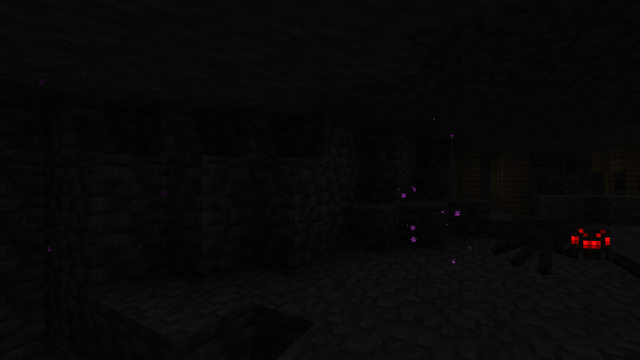araignees: (509, 211, 634, 285)
